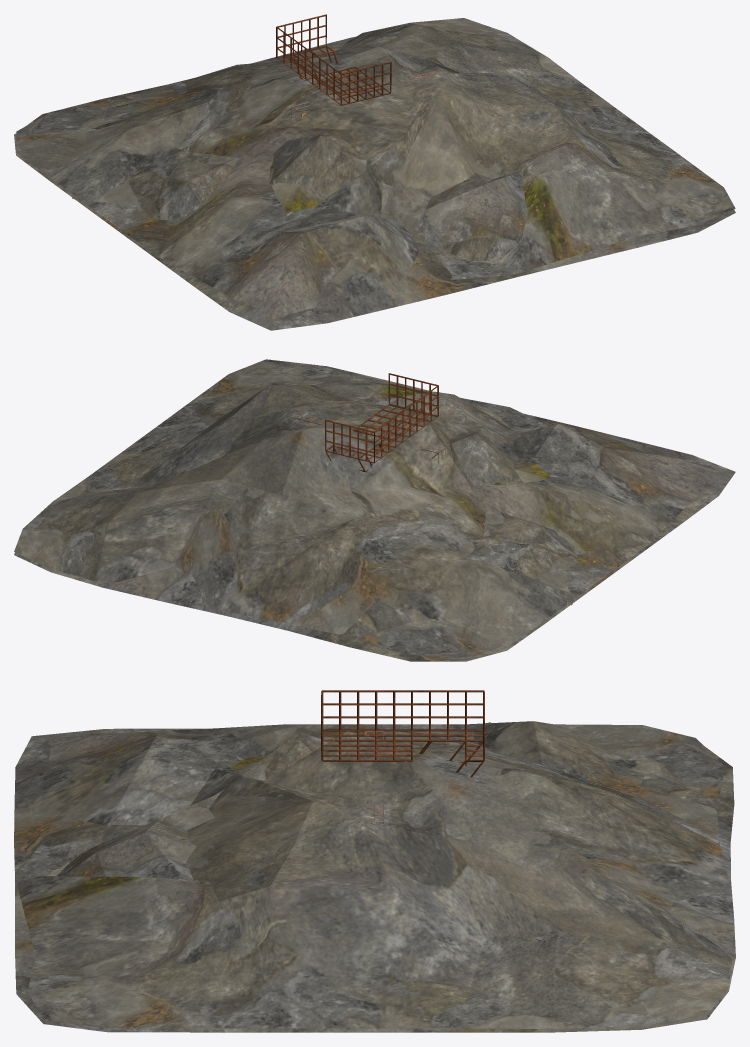
Rendered from billboard_2.glb.
The picture shows the model from 3 angles, top to bottom: view 1: azimuth 30°, elevation 25°; view 2: azimuth 150°, elevation 25°; view 3: azimuth 270°, elevation 25°; orthographic projection. The views are drawn at different scales.
Visible parts, largest first — view 1: Wreckage 2, Wreckage 3, Wreckage 1, FireStairs; view 2: Wreckage 2, Wreckage 1, Wreckage 3, FireStairs; view 3: Wreckage 2, Wreckage 1, Wreckage 3, FireStairs.
Boxes of the visible parts, x1=… form: Wreckage 2: x1=16, y1=18, x2=735, y2=319; Wreckage 3: x1=72, y1=132, x2=527, y2=261; Wreckage 1: x1=14, y1=36, x2=735, y2=330; FireStairs: x1=276, y1=14, x2=391, y2=105; Wreckage 2: x1=14, y1=359, x2=718, y2=657; Wreckage 1: x1=14, y1=365, x2=735, y2=661; Wreckage 3: x1=367, y1=391, x2=578, y2=605; FireStairs: x1=325, y1=373, x2=438, y2=472; Wreckage 2: x1=15, y1=721, x2=732, y2=1029; Wreckage 1: x1=14, y1=728, x2=735, y2=1032; Wreckage 3: x1=57, y1=722, x2=492, y2=879; FireStairs: x1=321, y1=690, x2=484, y2=777.
Size of the model in its own units: 20.22 by 4.91 by 20.08.
3 materials, 3 textured.
